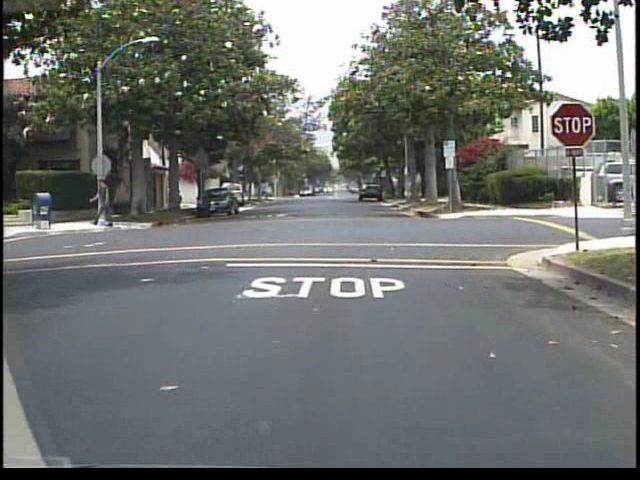person: (90, 171, 119, 233)
